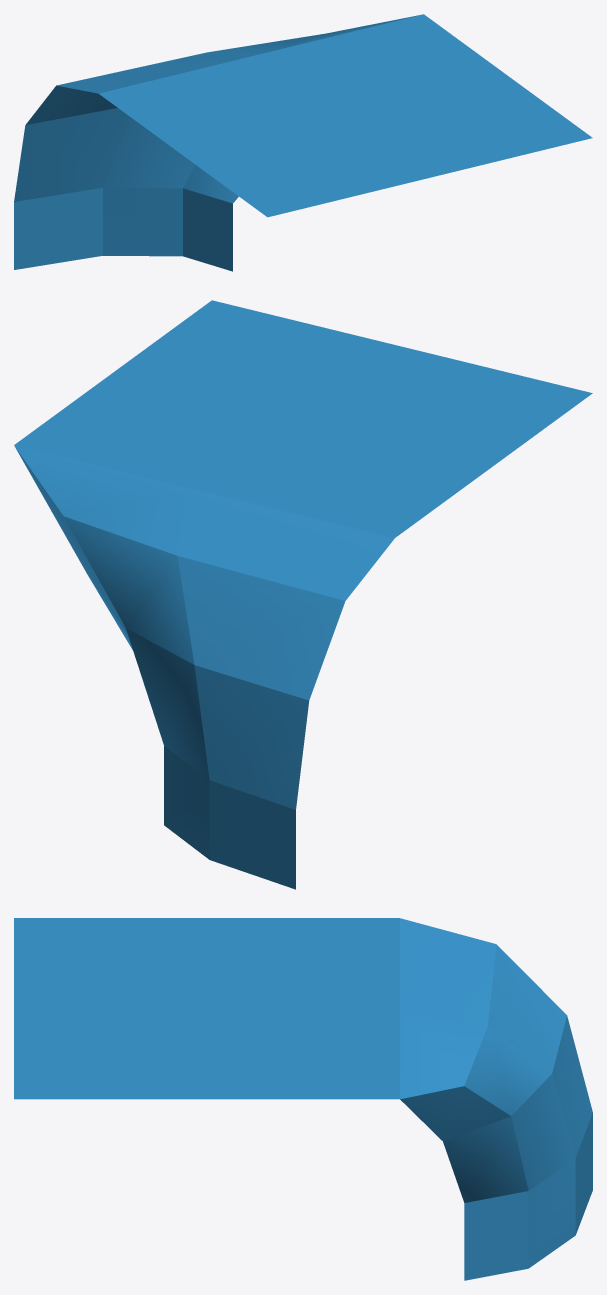
Rendered from Cliff_Terrain_Waterfall_Water_Top_Edge.obj.
3 renders of one model, top to bottom at view 1: azimuth 30°, elevation 25°; view 2: azimuth 150°, elevation 25°; view 3: azimuth 270°, elevation 25°, orthographic. The views are drawn at different scales.
Parts seen in each view (by area): view 1: object1; view 2: object1; view 3: object1.
Part boxes in pixels (left/top/right/bottom): object1: left=14, top=14, right=592, bottom=271; object1: left=14, top=300, right=592, bottom=889; object1: left=14, top=918, right=592, bottom=1280.
Bounding box in the file's own units: 1 × 0.7 × 1.35.
